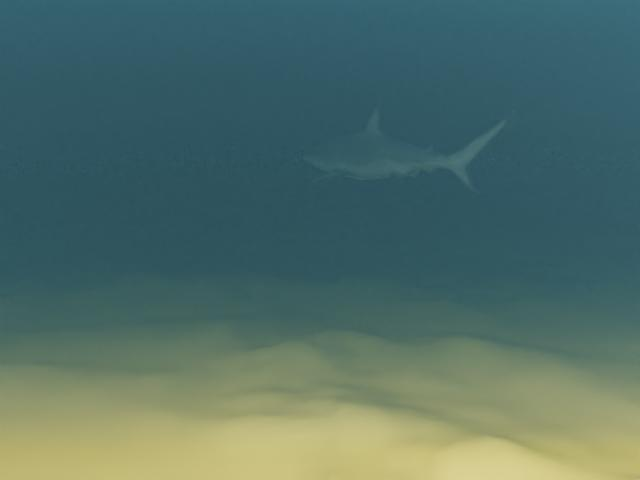Carribean Shark.001: (302, 104, 515, 194)
